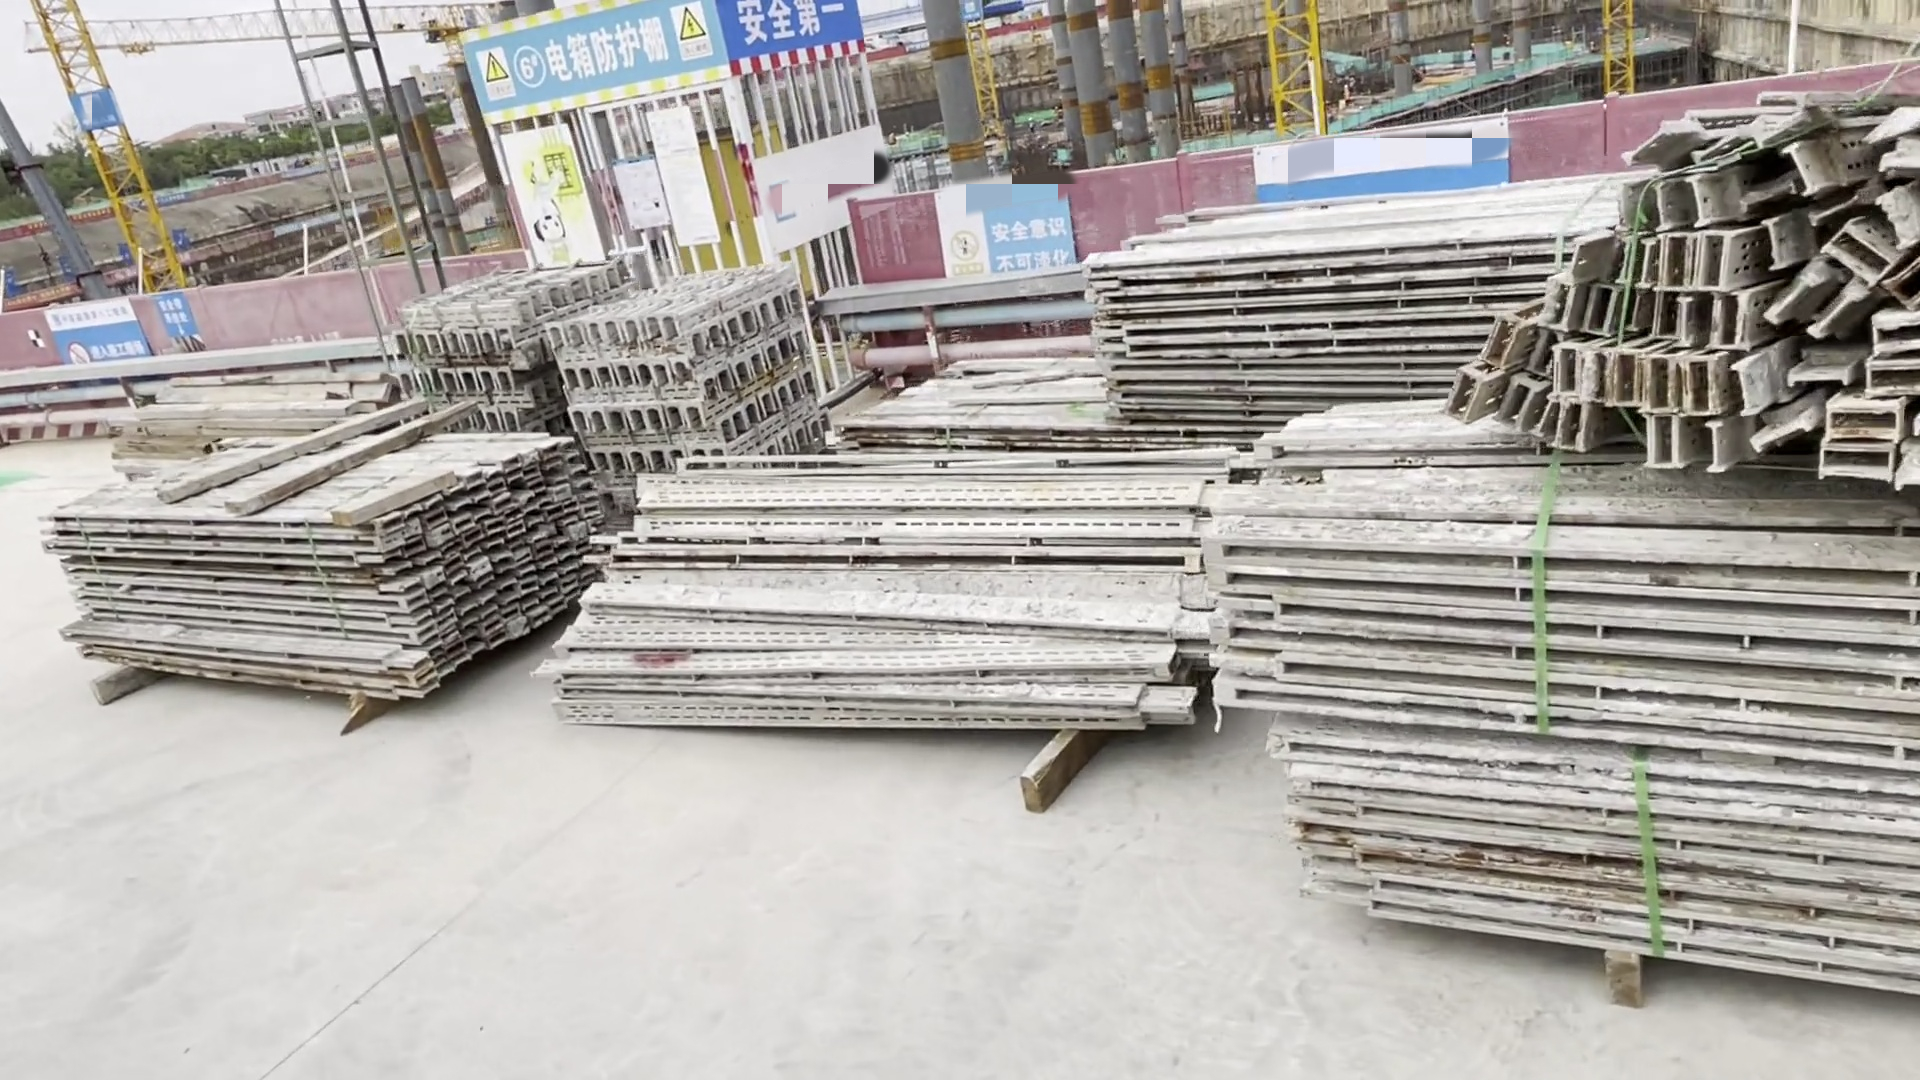ebox: (686, 125, 791, 274)
fence: (1, 252, 526, 440)
slogan: (936, 186, 1080, 276), (727, 1, 858, 76), (473, 45, 520, 102)
wood: (109, 380, 401, 469)
